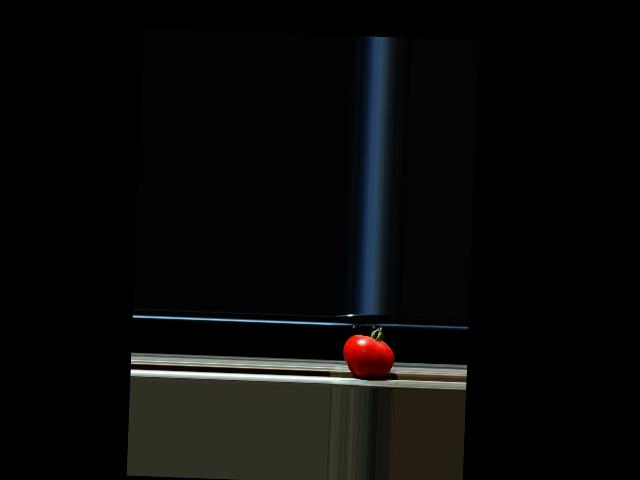tomato: (342, 325, 395, 379)
